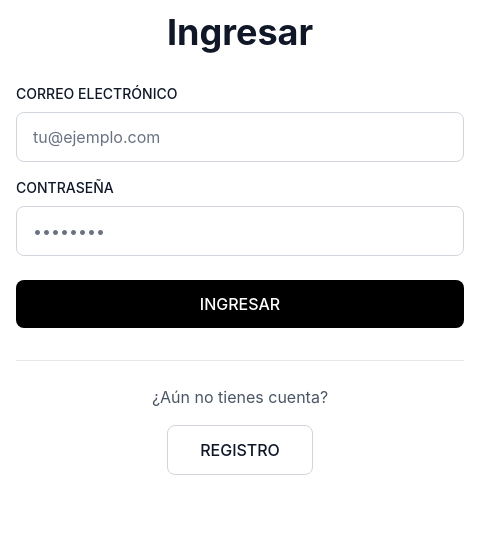
it: LoginForm › shows validation errors for empty fields
This screenshot has width=481, height=548.
Step 1. Click the button "INGRESAR" → [240, 304], box [16,280,464,328]
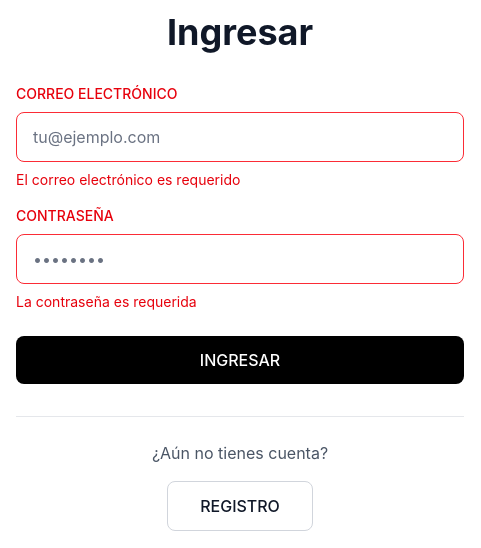
Expected: the text "El correo electrónico es requerido" is shown, [16,171,240,188]
Expected: the text "La contraseña es requerida" is shown, [16,293,197,310]
